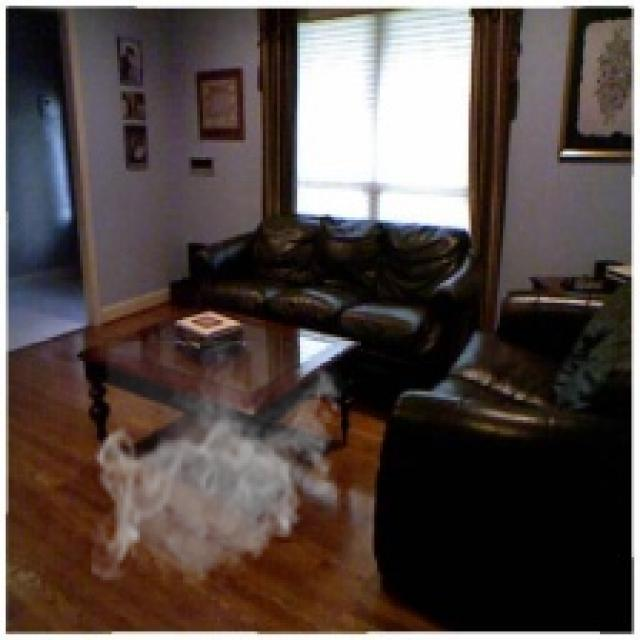Smoke: (92, 340, 348, 594)
